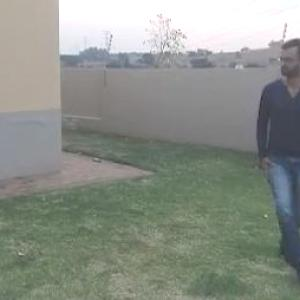follow: (248, 32, 299, 263)
